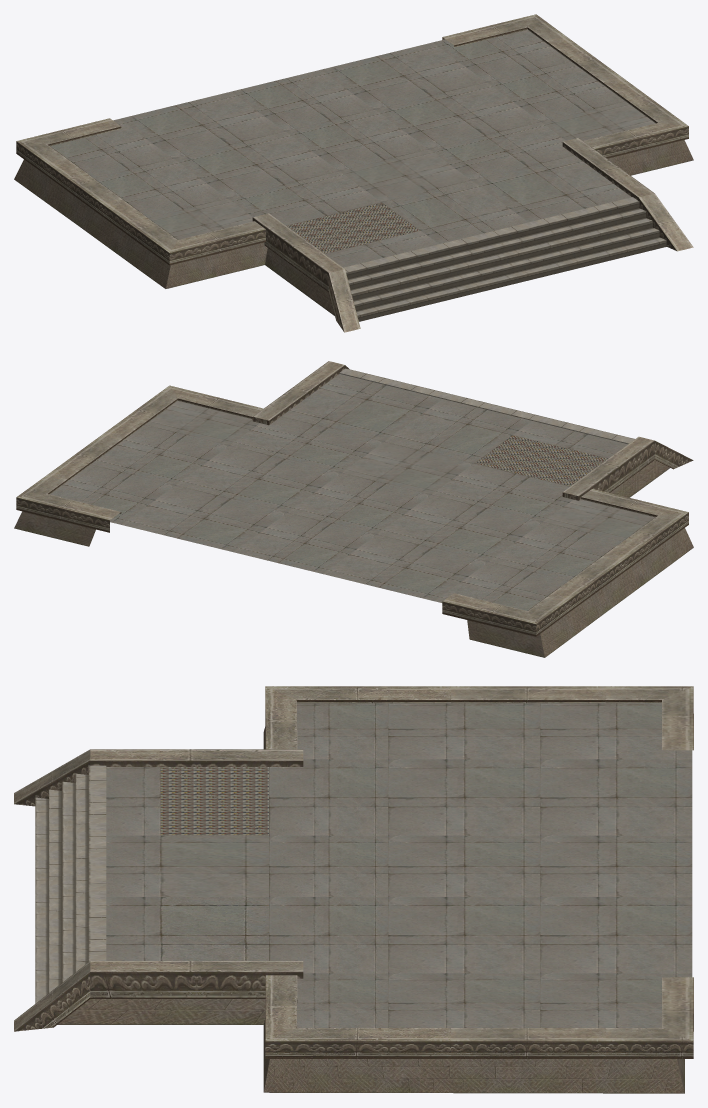
The model's file is cj_luoyang_dizhuo02_55_43_7449out.fbx.
3 renders of one model, top to bottom at view 1: azimuth 30°, elevation 25°; view 2: azimuth 150°, elevation 25°; view 3: azimuth 270°, elevation 25°, orthographic. The views are drawn at different scales.
Parts seen in each view (by area): view 1: 0000_cj_luoyang_dizhuo02, 0001_cj_luoyang_dizhuo02; view 2: 0000_cj_luoyang_dizhuo02, 0001_cj_luoyang_dizhuo02; view 3: 0000_cj_luoyang_dizhuo02, 0001_cj_luoyang_dizhuo02.
Boxes of the visible parts, x1,y1,x2,y2 form: 0000_cj_luoyang_dizhuo02: (14, 14, 693, 332); 0001_cj_luoyang_dizhuo02: (343, 197, 666, 321); 0000_cj_luoyang_dizhuo02: (14, 361, 693, 657); 0001_cj_luoyang_dizhuo02: (339, 368, 634, 443); 0000_cj_luoyang_dizhuo02: (14, 686, 693, 1093); 0001_cj_luoyang_dizhuo02: (35, 765, 106, 1003).
Size of the model in its own units: 10.97 by 0.7323 by 8.7.
